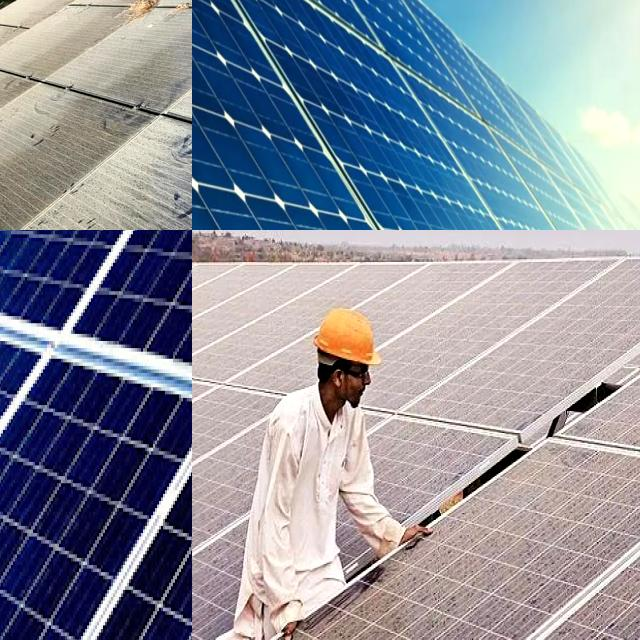crack: (192, 0, 640, 230), (0, 268, 192, 640), (0, 230, 192, 499), (0, 379, 192, 640), (35, 409, 192, 640)
dust: (426, 308, 550, 414), (0, 111, 134, 190), (444, 511, 522, 634), (204, 262, 301, 350), (86, 15, 192, 95), (538, 446, 596, 590), (192, 404, 252, 506), (356, 264, 492, 298), (0, 25, 56, 96), (506, 260, 592, 304), (192, 441, 225, 553), (326, 608, 437, 640), (192, 262, 231, 349), (408, 434, 456, 486), (392, 328, 422, 408), (562, 321, 609, 364), (611, 455, 640, 516), (192, 594, 226, 640), (309, 268, 354, 300), (624, 256, 640, 319)
